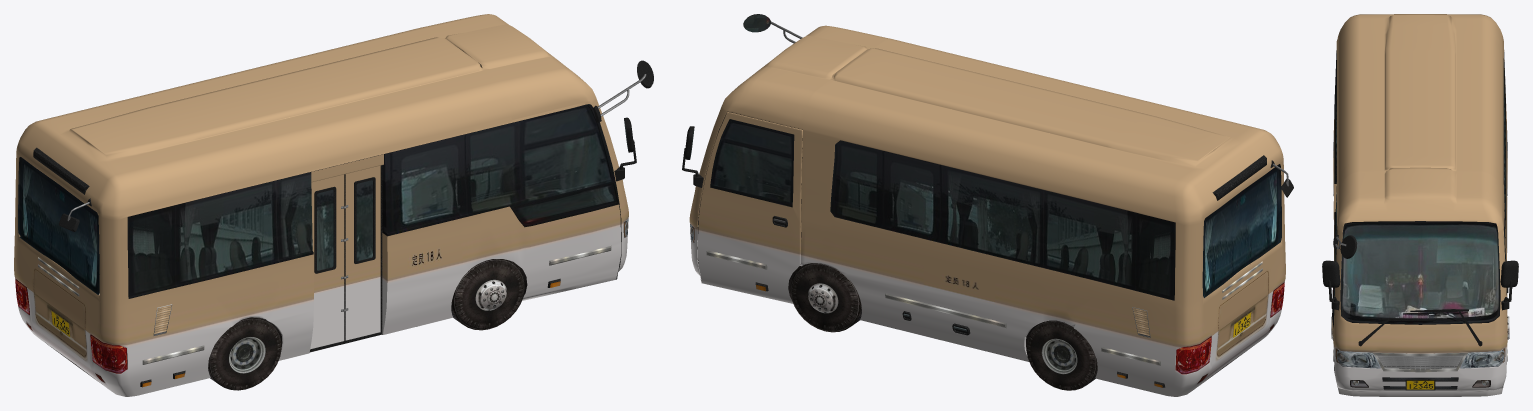
The model's file is xiaoba.glb.
3 renders of one model, left to right at view 1: azimuth 30°, elevation 25°; view 2: azimuth 150°, elevation 25°; view 3: azimuth 270°, elevation 25°, orthographic. The views are drawn at different scales.
Visible parts, largest first — view 1: pCube17; view 2: pCube17; view 3: pCube17.
Boxes of the visible parts, x1,y1,x2,y2 form: pCube17: [14, 14, 653, 396]; pCube17: [682, 14, 1293, 396]; pCube17: [1322, 14, 1518, 396].
Bounding box in the file's own units: 6.69 × 2.64 × 2.36.
2 materials, 2 textured.
